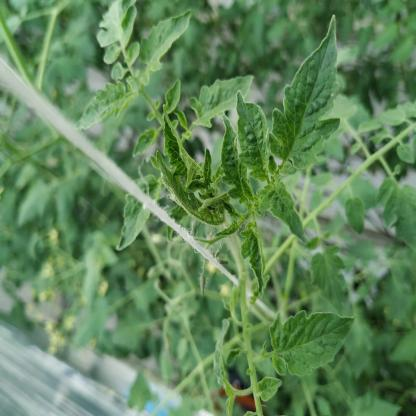T_L_H: (271, 311, 355, 377), (222, 116, 255, 205)
T_L_R: (270, 16, 340, 169), (237, 93, 271, 182), (241, 222, 266, 296)
